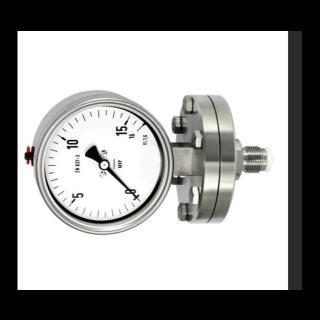gauge: (23, 85, 177, 242), (124, 122, 148, 144), (123, 185, 143, 205), (99, 158, 109, 170), (134, 195, 142, 202)
